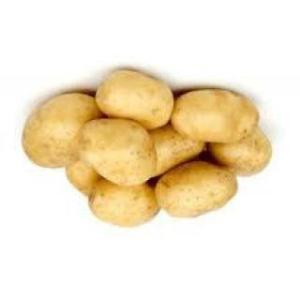potato: (24, 92, 96, 169), (78, 119, 157, 185), (172, 87, 256, 143), (156, 160, 236, 218), (96, 70, 172, 130), (208, 126, 270, 178), (88, 184, 160, 228), (61, 159, 101, 195)
